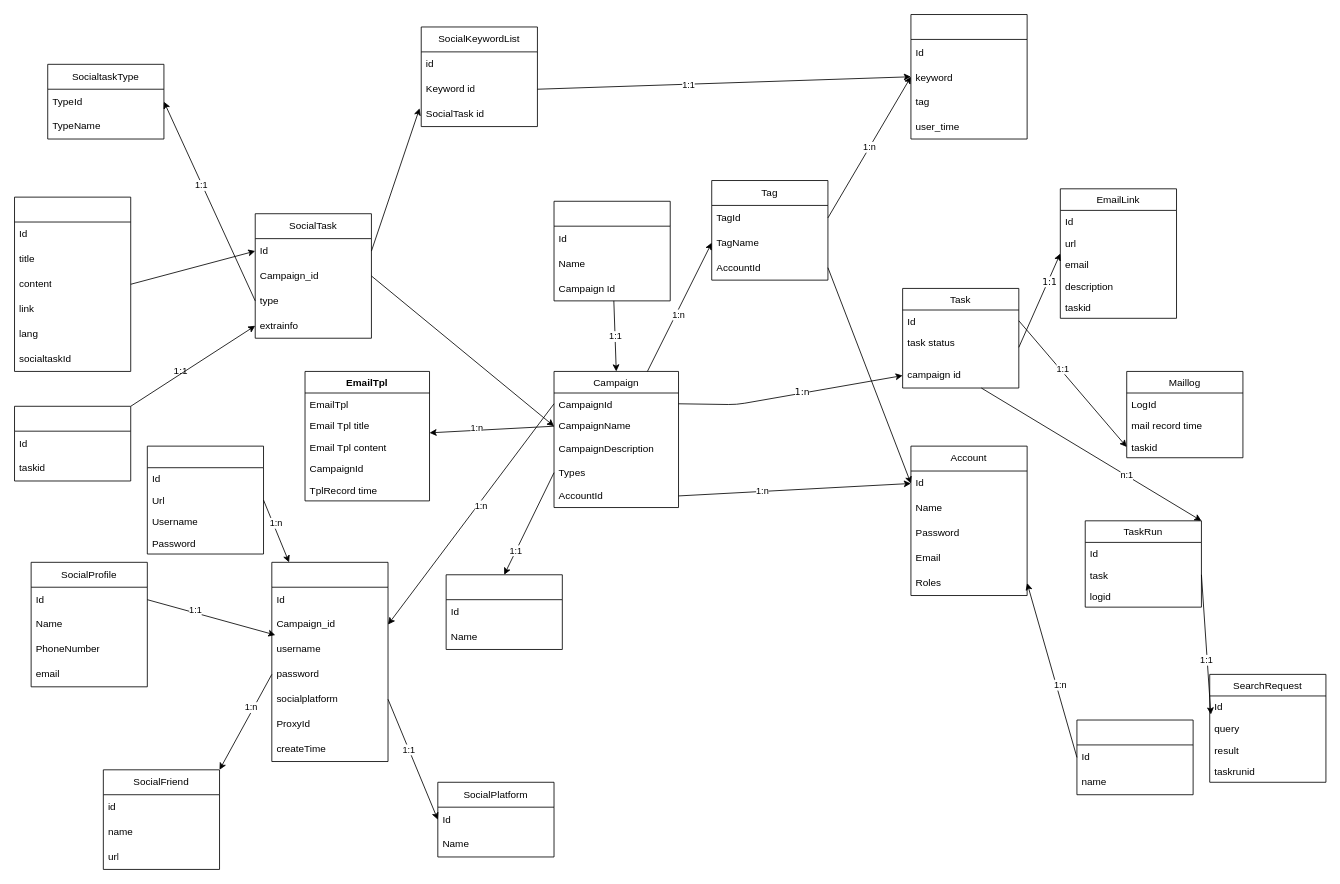
This 1340x884 diagram has some shape labels left out. The box of each missing label's shape, as (x1, y1, x2, y2) in pixels:
AccountRole: (1076, 719, 1193, 795)
Campaign Types: (445, 574, 562, 649)
Keywords: (910, 14, 1027, 139)
Schedule: (553, 200, 670, 301)
Scraperifno: (14, 196, 131, 371)
SocialAccount: (271, 561, 388, 762)
SocialProxy: (146, 445, 264, 554)
TaskExtraInfo: (14, 405, 131, 481)
